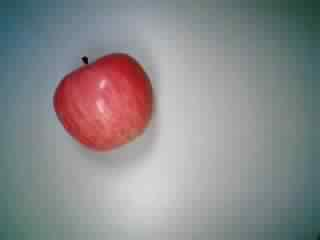apple: (50, 49, 155, 151)
